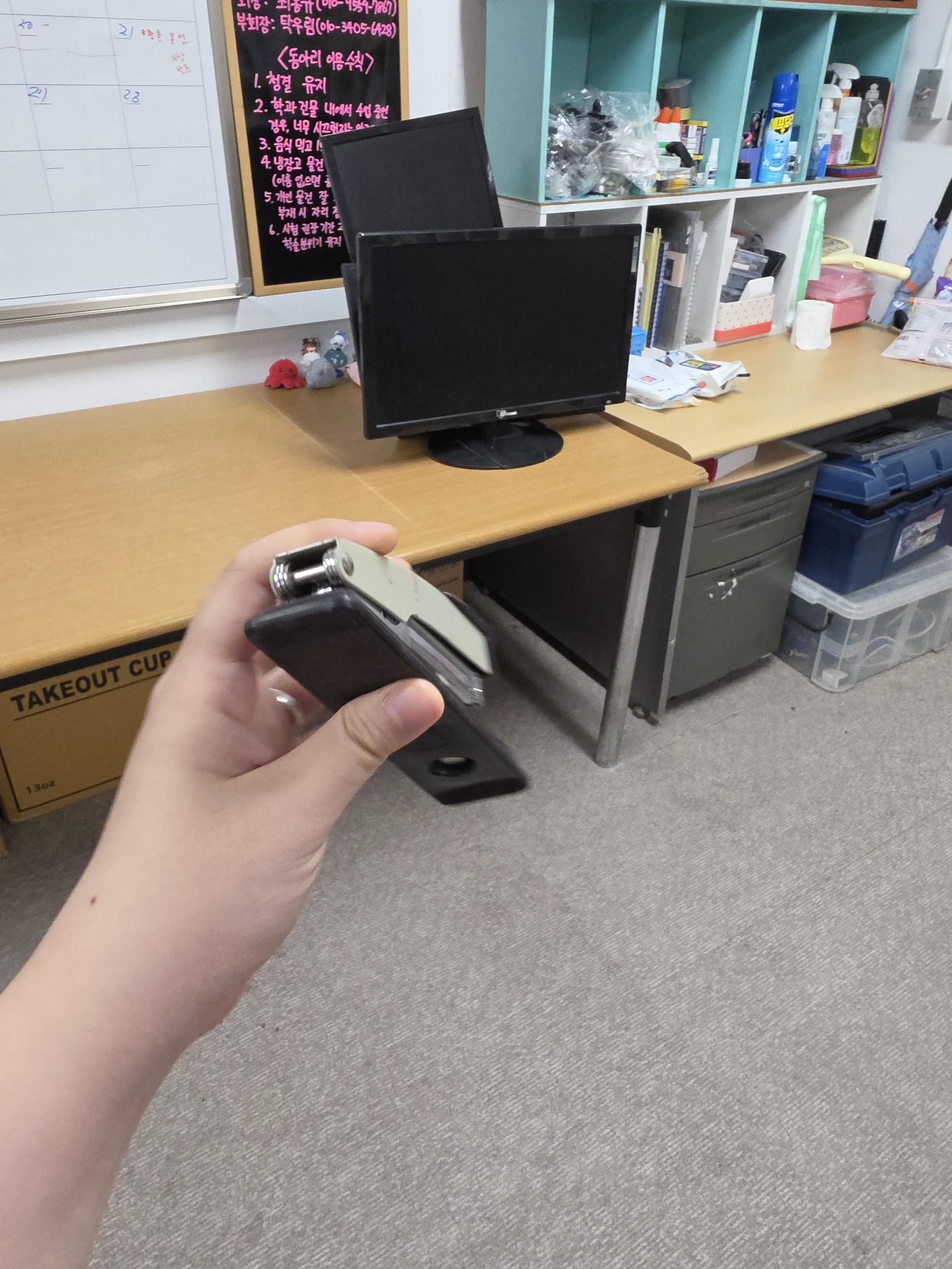stapler: (244, 536, 529, 804)
tissue: (714, 276, 777, 344), (795, 299, 834, 350)
